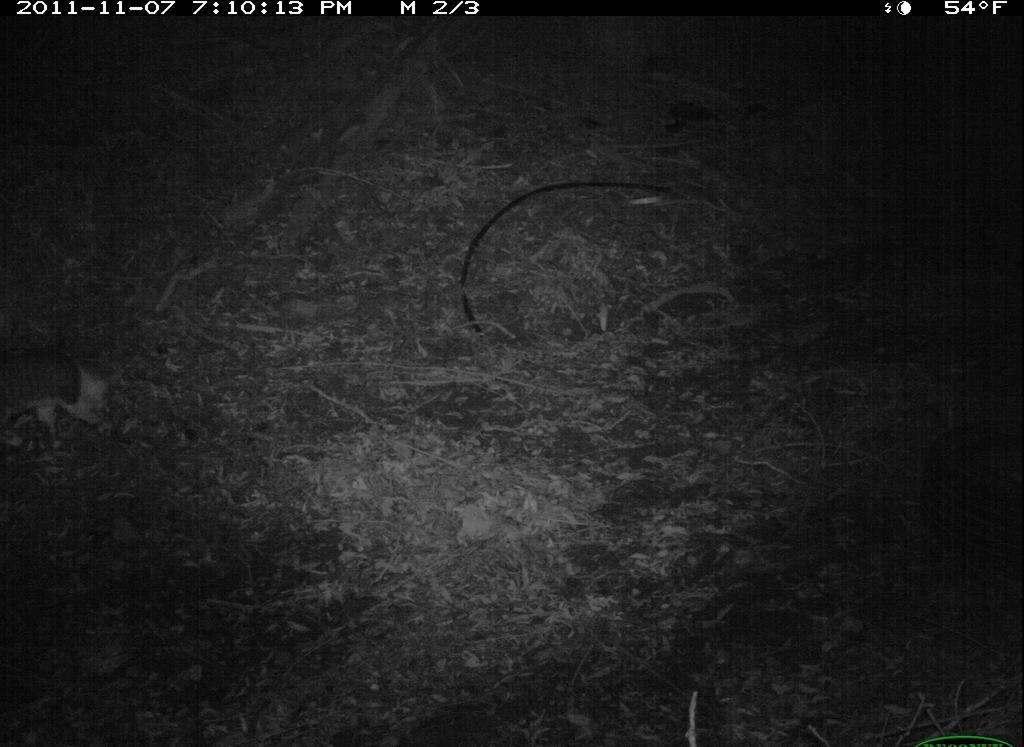cat: (9, 335, 148, 460)
